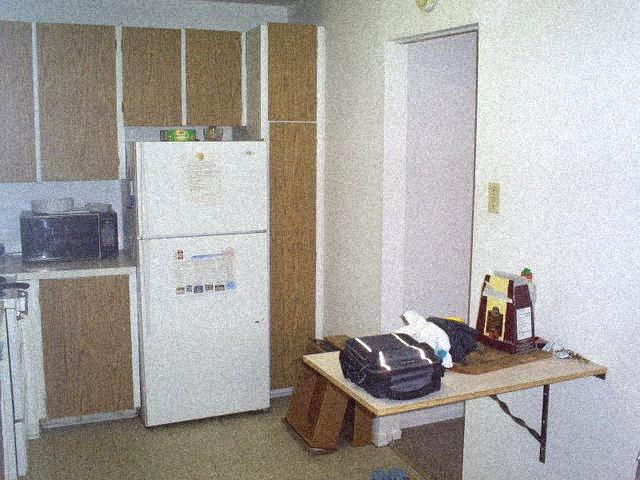Electrodomestico: (136, 140, 272, 417)
